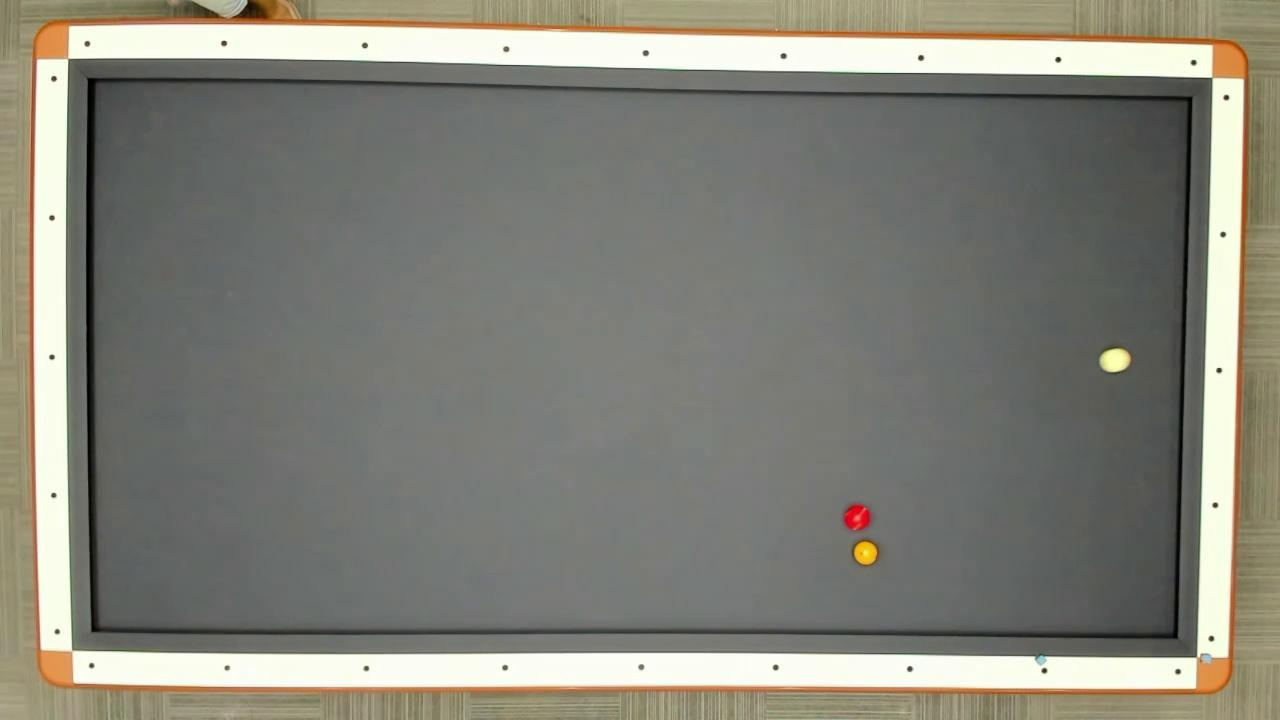Red: (842, 503, 871, 532)
White: (1098, 346, 1132, 376)
Yellow: (852, 539, 878, 567)
